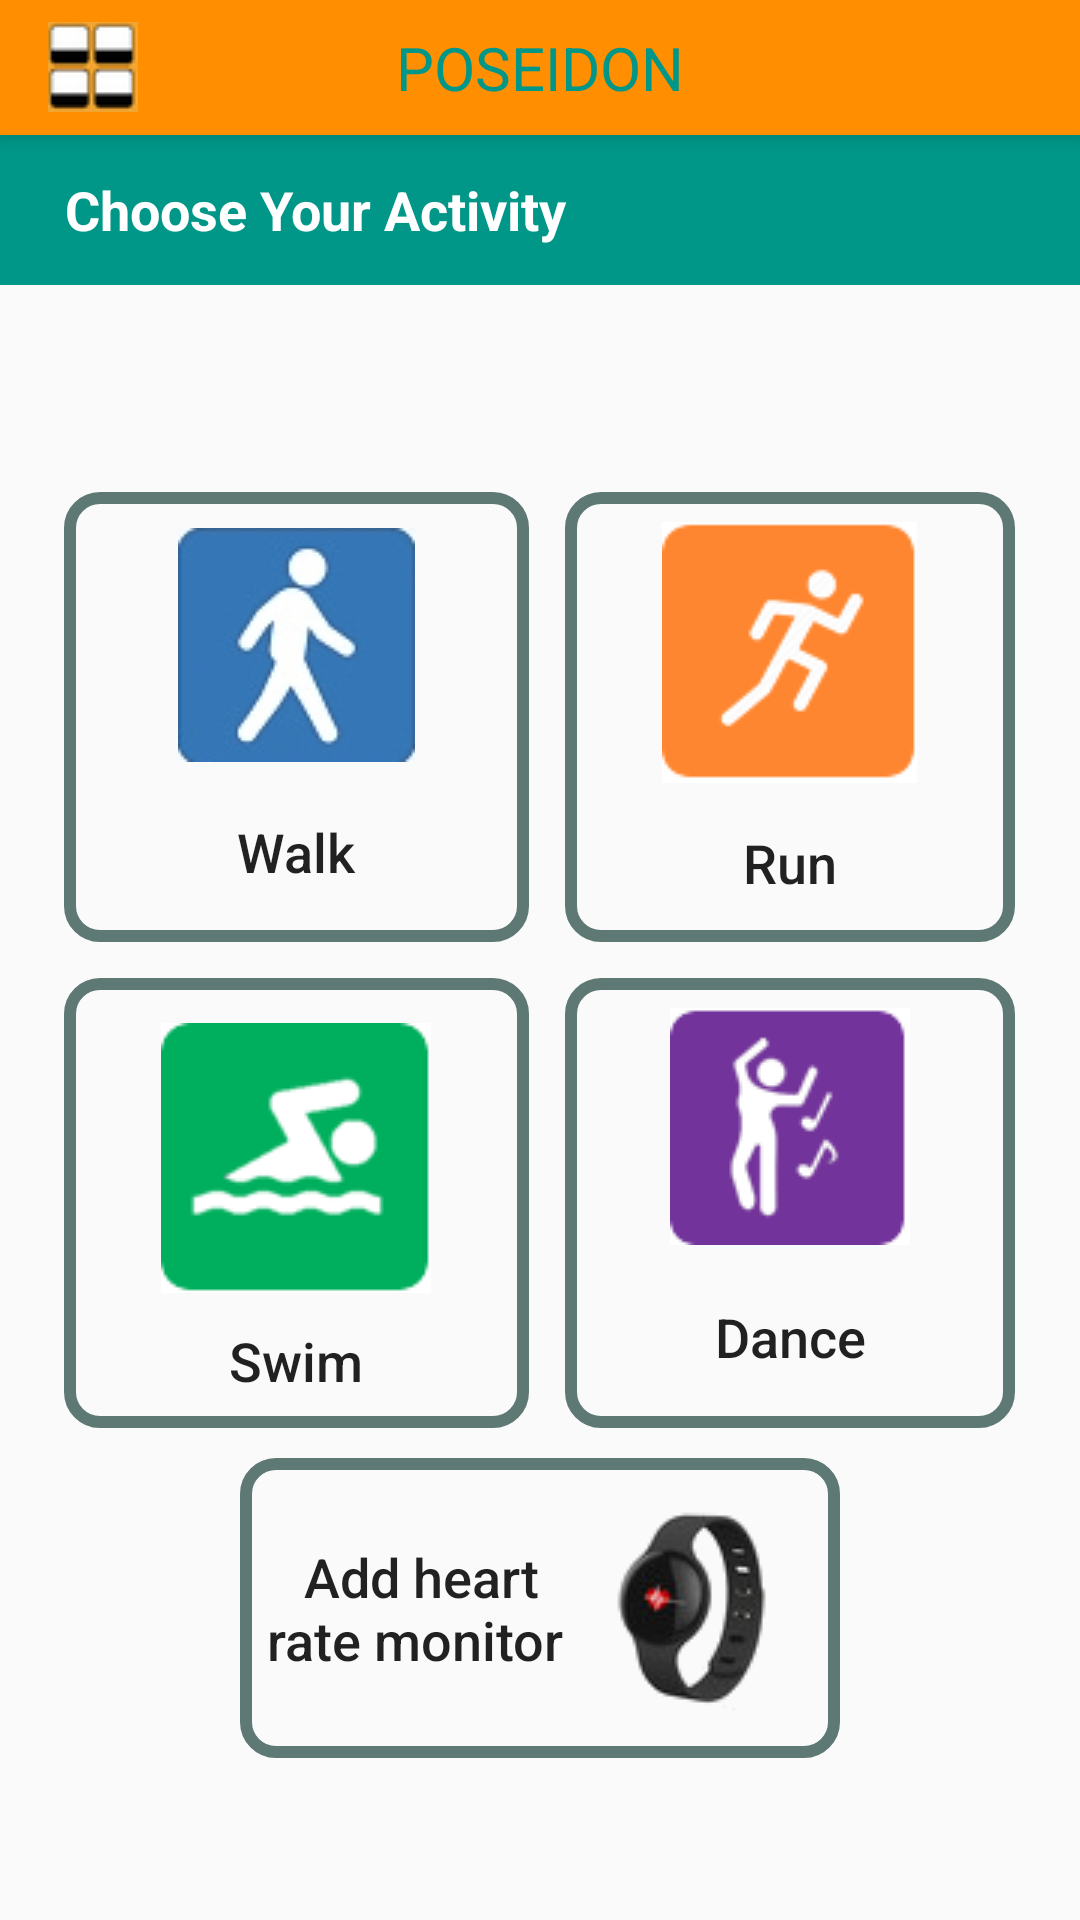

Icons on this 1080 × 1920 Android screen, each with its box as (x1, y1, x2, y2):
homebutton: (48, 22, 138, 112)
